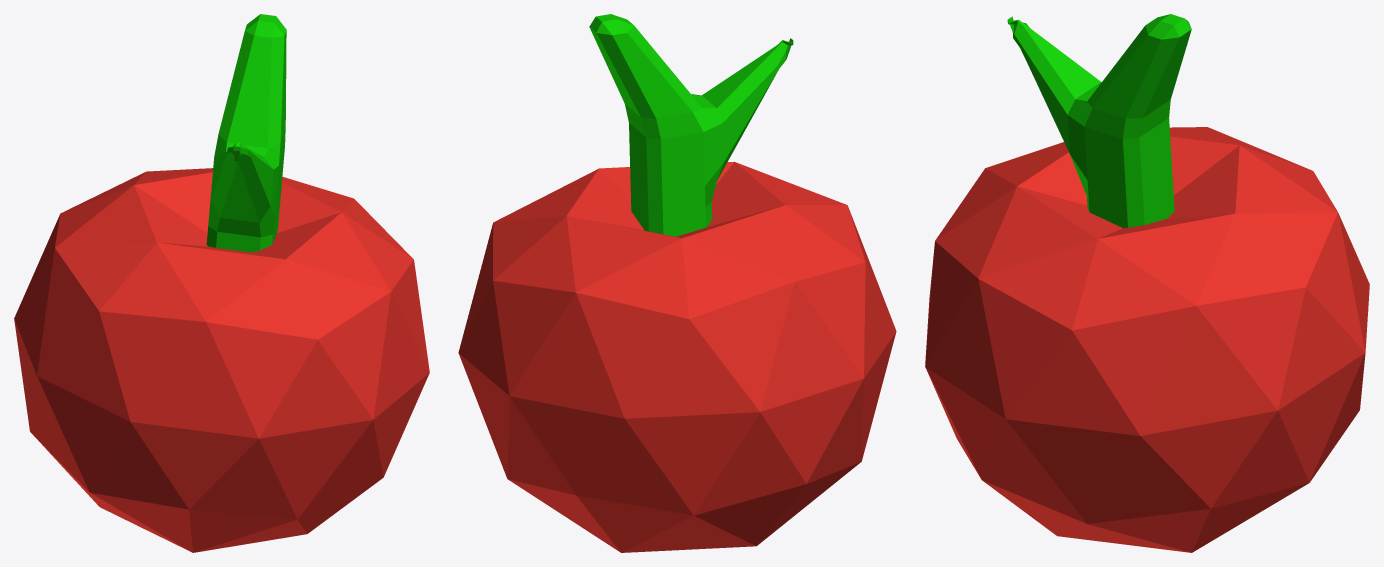
The model's file is Apple.fbx.
3 views of the same model, side by side, from view 1: azimuth 30°, elevation 25°; view 2: azimuth 150°, elevation 25°; view 3: azimuth 270°, elevation 25° (orthographic). The views are drawn at different scales.
Visible parts, largest first — view 1: Icosphere.114; view 2: Icosphere.114; view 3: Icosphere.114.
Part boxes in pixels (<box>): Icosphere.114: <box>14,14,429,552</box>; Icosphere.114: <box>458,14,896,552</box>; Icosphere.114: <box>925,14,1369,552</box>.
Size of the model in its own units: 66.83 by 64.21 by 87.05.
